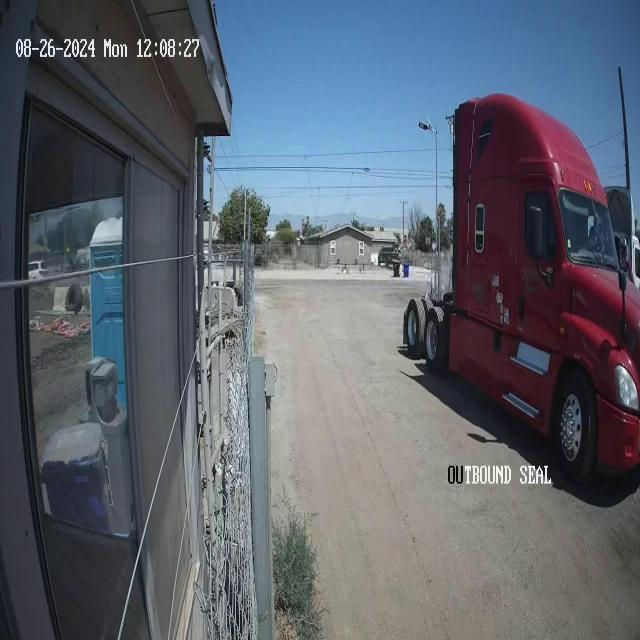TRUCK_IN: (403, 90, 639, 486)
